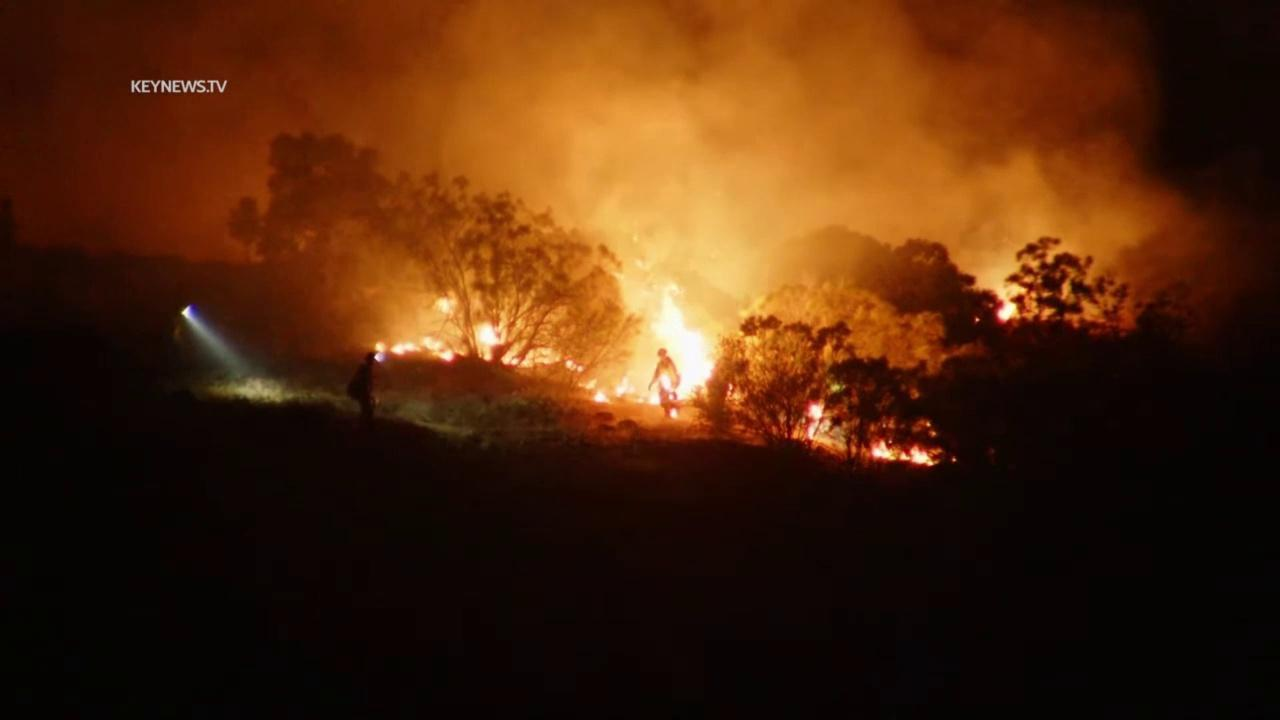fire: (615, 283, 718, 407), (866, 437, 948, 467), (372, 336, 455, 362), (802, 400, 832, 448), (473, 320, 504, 364), (993, 300, 1018, 324), (434, 295, 454, 314), (590, 389, 611, 407), (565, 357, 585, 374), (667, 407, 682, 419)
smoke: (0, 0, 1280, 335)
